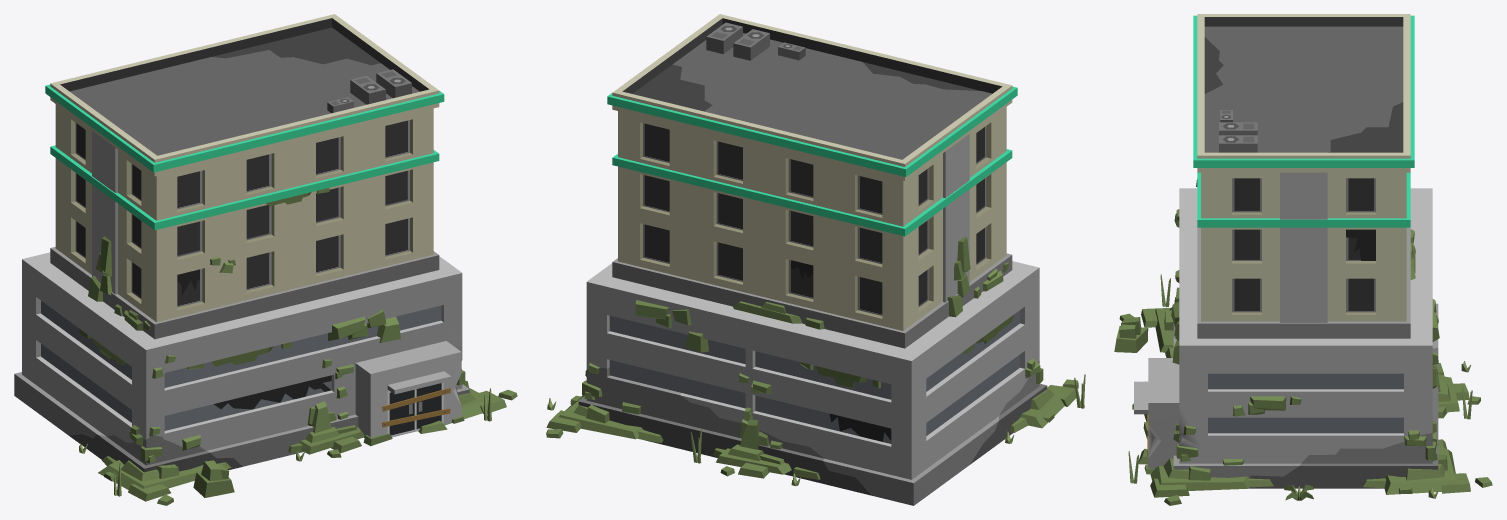
File: SA_Bld_HospitalBuilding_Damaged_01.fbx
3 views of the same model, side by side, from view 1: azimuth 30°, elevation 25°; view 2: azimuth 150°, elevation 25°; view 3: azimuth 270°, elevation 25° (orthographic). The views are drawn at different scales.
Visible parts, largest first — view 1: SA_Bld_HospitalBuilding_Damaged_01, SA_Bld_HospitalBuilding_Growth_01; view 2: SA_Bld_HospitalBuilding_Damaged_01, SA_Bld_HospitalBuilding_Growth_01; view 3: SA_Bld_HospitalBuilding_Damaged_01, SA_Bld_HospitalBuilding_Growth_01.
Boxes of the visible parts, left/top/right/bottom form: SA_Bld_HospitalBuilding_Damaged_01: left=14, top=14, right=469, bottom=472; SA_Bld_HospitalBuilding_Growth_01: left=79, top=188, right=517, bottom=505; SA_Bld_HospitalBuilding_Damaged_01: left=578, top=14, right=1047, bottom=505; SA_Bld_HospitalBuilding_Growth_01: left=546, top=236, right=1085, bottom=485; SA_Bld_HospitalBuilding_Damaged_01: left=1134, top=14, right=1438, bottom=488; SA_Bld_HospitalBuilding_Growth_01: left=1114, top=179, right=1492, bottom=505.
Bounding box in the file's own units: 33.69 × 25.52 × 26.75.
